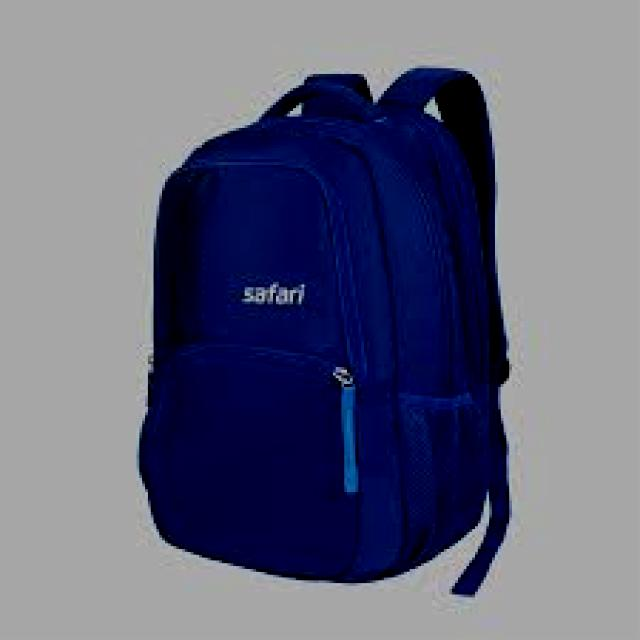backpack: (138, 67, 514, 596)
